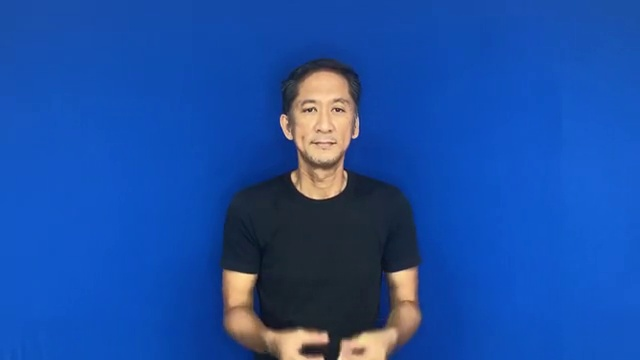egg: (259, 316, 397, 360)
